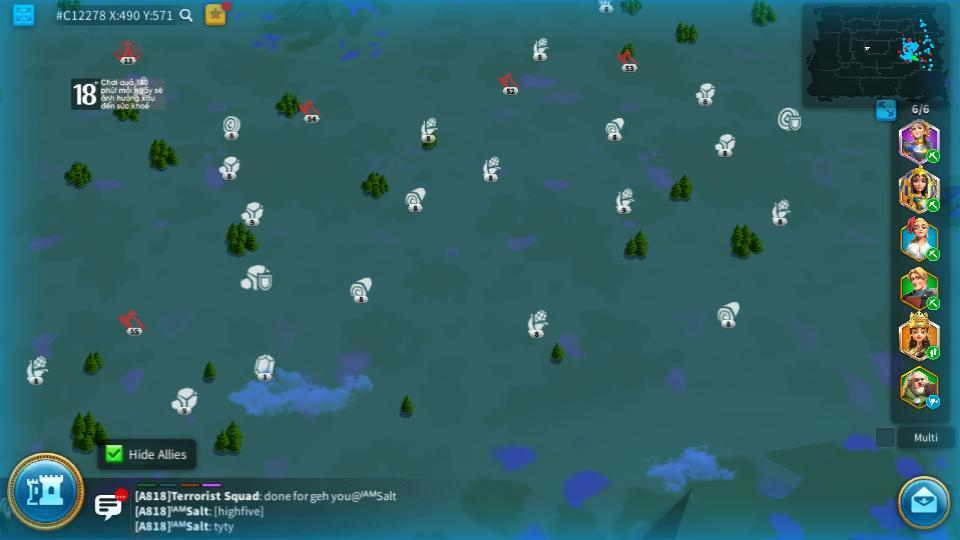gem-z-out: (252, 353, 275, 380)
march_farming: (925, 250, 941, 261)
march_idle: (925, 396, 942, 408)
march_marching: (925, 197, 941, 212), (925, 345, 941, 359), (925, 297, 942, 309), (925, 150, 941, 162)
